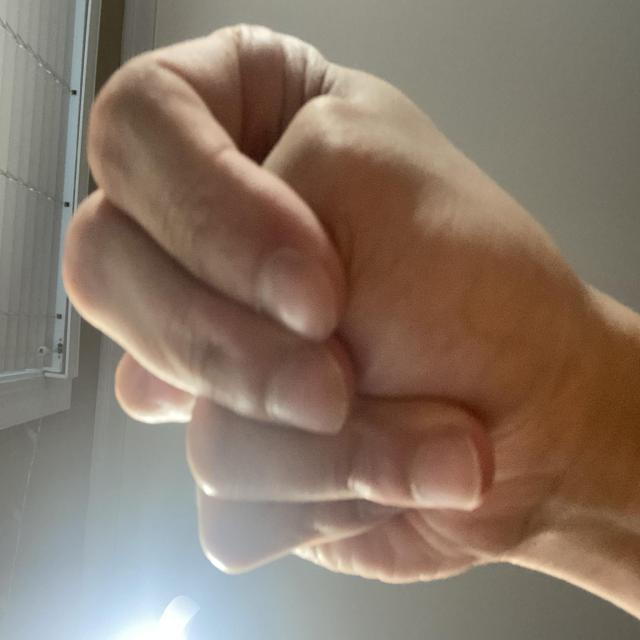N: (32, 69, 466, 640)
